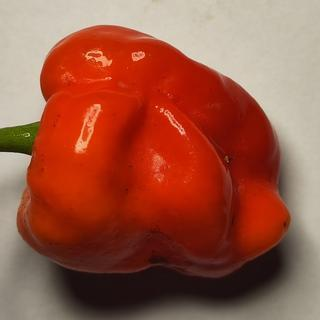Grade-A: (7, 14, 292, 285)
